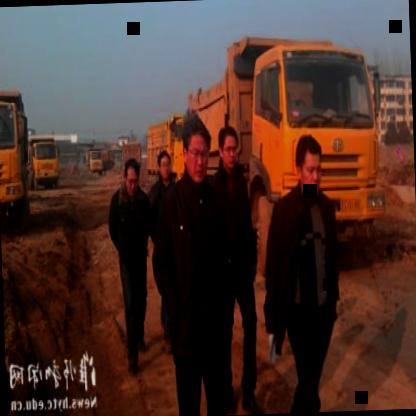head: (181, 117, 214, 188), (292, 130, 325, 198), (216, 128, 241, 174), (119, 155, 144, 201), (154, 150, 176, 186)
